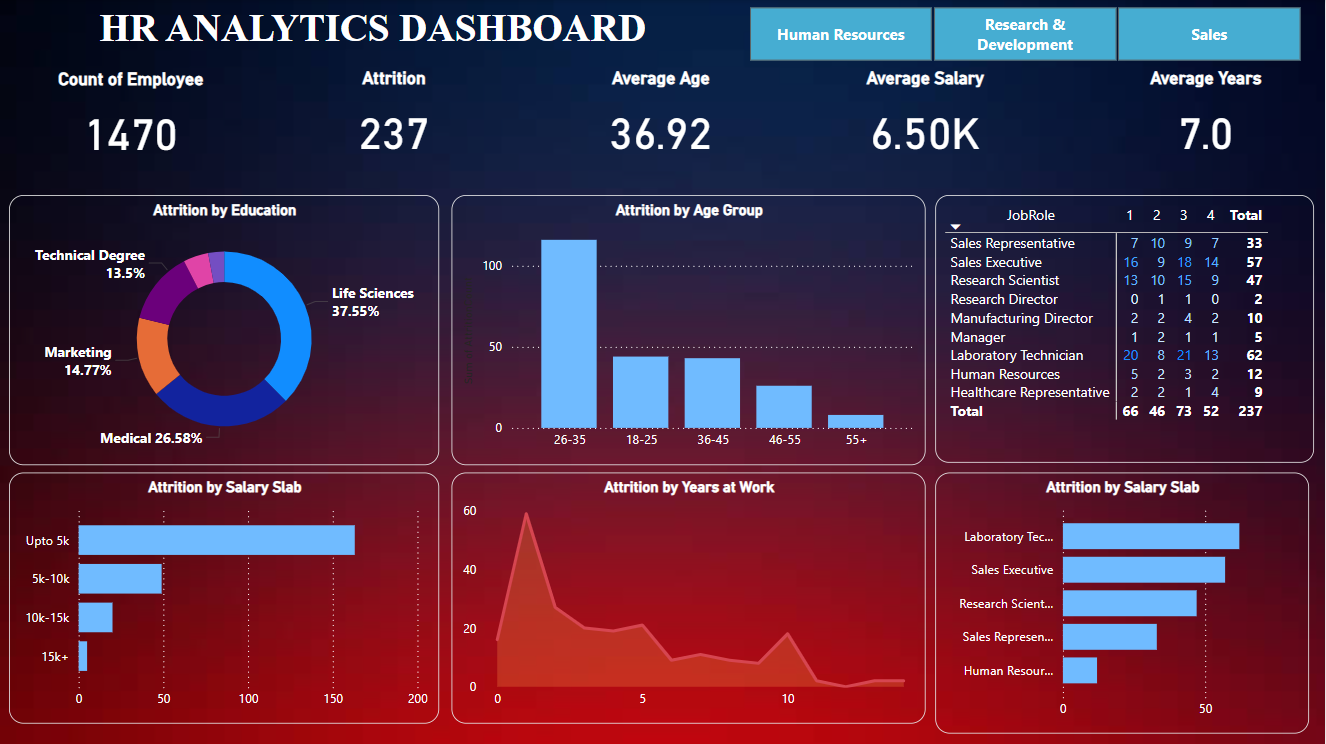

Layout of this report page (visuals, bound fields, positions):
{"tool":"powerbi","page":{"name":"Page 1","canvas":[1280,720],"ordinal":0},"visuals":[{"type":"card","title":"Count of Employee","fields":{"Values":["CountNonNull(Sheet1.EmpID)"]},"box":[18.1,66.4,218.4,100.1],"z":0},{"type":"card","title":"Attrition","fields":{"Values":["Sum(Sheet1.AttritionCount)"]},"box":[279.9,65.1,202.7,100.1],"z":1000},{"type":"card","title":"Average Age ","fields":{"Values":["Avg(Sheet1.Age)"]},"box":[540.5,65.1,196.6,100.1],"z":2000},{"type":"card","title":"Average Salary","fields":{"Values":["Avg(Sheet1.MonthlyIncome)"]},"box":[798.7,65.1,190.6,100.1],"z":3000},{"type":"card","title":"Average Years","fields":{"Values":["Avg(Sheet1.YearsAtCompany)"]},"box":[1068.9,65.1,191.8,100.1],"z":4000},{"type":"donutChart","title":" Attrition by Education","fields":{"Category":["Sheet1.EducationField"],"Y":["Sum(Sheet1.AttritionCount)"]},"box":[9.7,188.2,415,260.6],"z":5000},{"type":"columnChart","title":" Attrition by Age Group","fields":{"Category":["Sheet1.AgeGroup"],"Y":["Sum(Sheet1.AttritionCount)"]},"box":[436.7,188.2,457.2,260.6],"z":6000},{"type":"pivotTable","fields":{"Rows":["Sheet1.JobRole"],"Columns":["Sheet1.JobSatisfaction"],"Values":["Sum(Sheet1.AttritionCount)"]},"box":[903.6,188.2,365.6,258.2],"z":7000},{"type":"barChart","title":" Attrition by Salary Slab","fields":{"Category":["Sheet1.SalarySlab"],"Y":["Sum(Sheet1.AttritionCount)"]},"box":[9.7,456,415,242.5],"z":8000},{"type":"barChart","title":" Attrition by Salary Slab","fields":{"Category":["Sheet1.JobRole"],"Y":["Sum(Sheet1.AttritionCount)"]},"box":[903.6,456,360.7,252.1],"z":9000},{"type":"areaChart","title":" Attrition by Years at Work","fields":{"Y":["Sum(Sheet1.AttritionCount)"],"Category":["Sheet1.YearsAtCompany"]},"box":[436.7,456,457.2,242.5],"z":10000},{"type":"slicer","title":" Attrition by Salary Slab","fields":{"Values":["Sheet1.Department"]},"box":[698.5,0,581.5,65.1],"z":11000},{"type":"textbox","box":[0,0,721.5,82],"z":12000}]}

Visuals, with their boxes in screenshot pixels (x1, y1, x2, y2), scaled from the page's 1280x720 canvas onto the 1326x744 screenshot:
"Count of Employee" card: [19, 69, 245, 172]
"Attrition" card: [290, 67, 500, 171]
"Average Age " card: [560, 67, 764, 171]
"Average Salary" card: [827, 67, 1025, 171]
"Average Years" card: [1107, 67, 1306, 171]
" Attrition by Education" donutChart: [10, 194, 440, 464]
" Attrition by Age Group" columnChart: [452, 194, 926, 464]
pivotTable - Sheet1.JobRole x Sheet1.JobSatisfaction: [936, 194, 1315, 461]
" Attrition by Salary Slab" barChart: [10, 471, 440, 722]
" Attrition by Salary Slab" barChart: [936, 471, 1310, 732]
" Attrition by Years at Work" areaChart: [452, 471, 926, 722]
" Attrition by Salary Slab" slicer: [724, 0, 1325, 67]
textbox: [0, 0, 747, 85]
